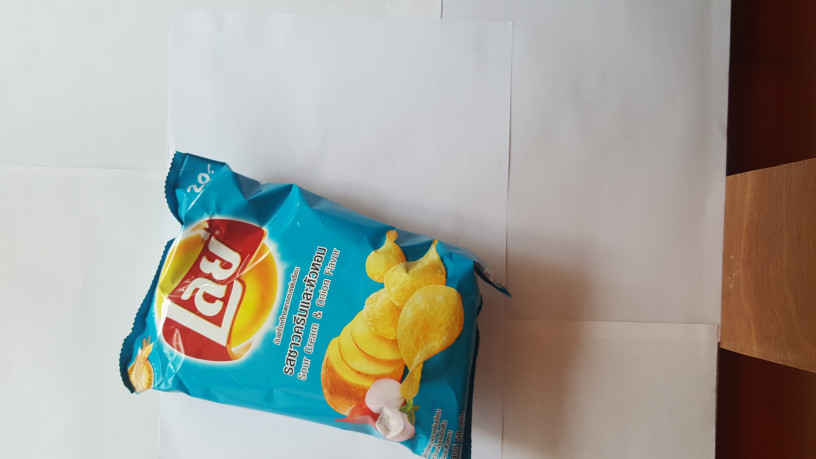lays-onion: (117, 152, 512, 459)
